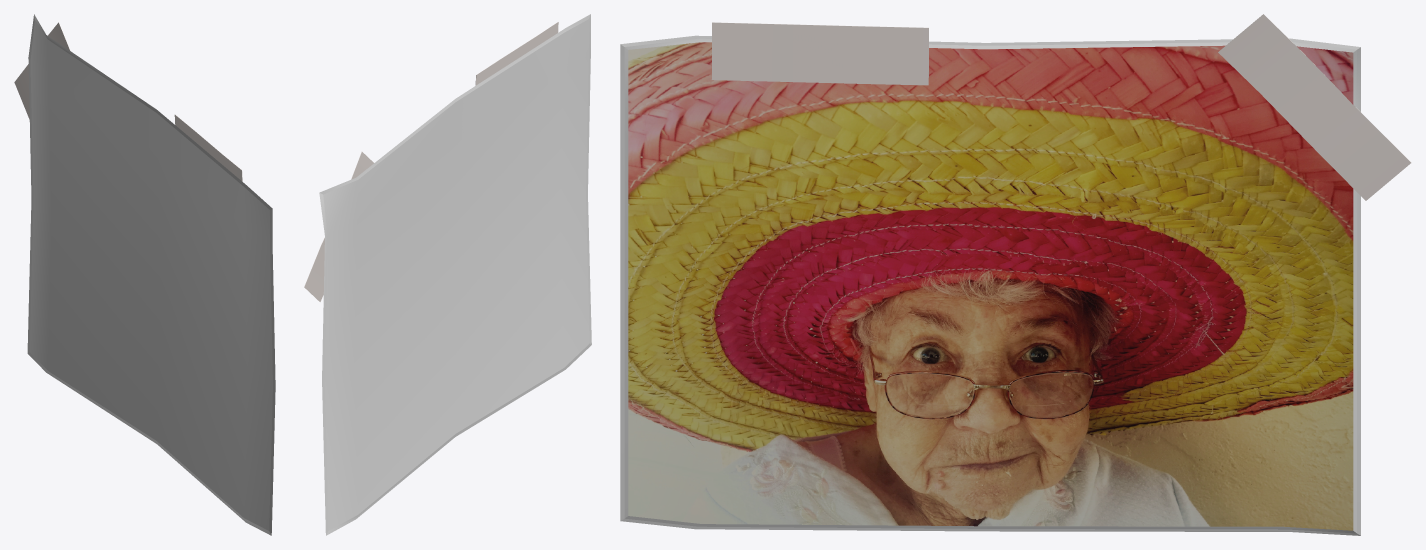
The model's file is Photo.fbx.
3 renders of one model, left to right at view 1: azimuth 30°, elevation 25°; view 2: azimuth 150°, elevation 25°; view 3: azimuth 270°, elevation 25°, orthographic. The views are drawn at different scales.
Visible parts, largest first — view 1: Photo, Tape2, Tape1; view 2: Photo, Tape1, Tape2; view 3: Photo, Tape2, Tape1.
Boxes of the visible parts, x1,y1,x2,y2 form: Photo: [27, 14, 275, 535]; Tape2: [174, 114, 242, 181]; Tape1: [14, 22, 70, 119]; Photo: [319, 14, 591, 535]; Tape1: [304, 151, 373, 301]; Tape2: [475, 22, 558, 85]; Photo: [620, 35, 1360, 535]; Tape2: [711, 22, 928, 85]; Tape1: [1218, 14, 1411, 200].
Bounding box in the file's own units: 0.1747 × 3.66 × 5.04.
Materials: 3 (1 with a texture image).
